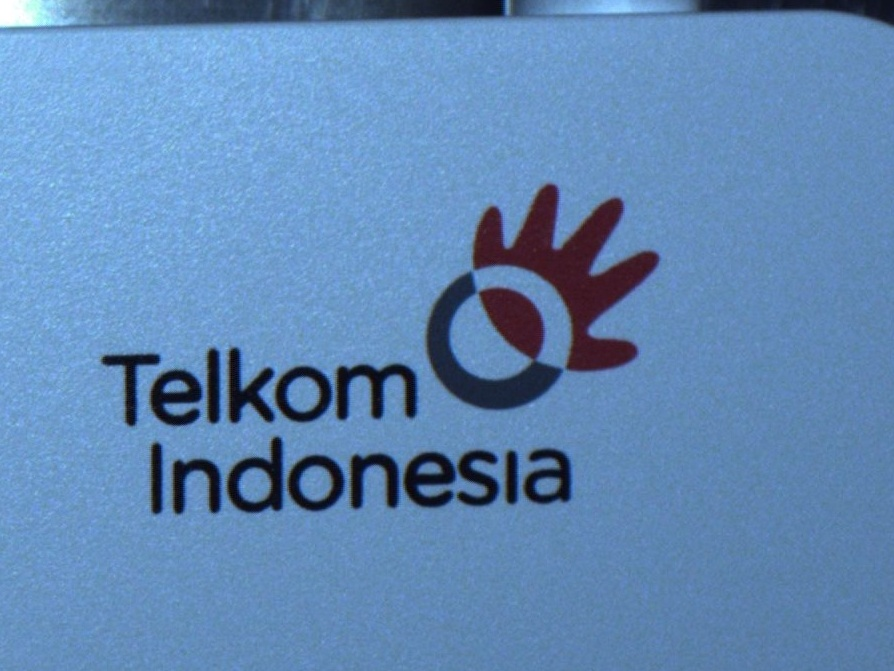BQ_IndonTelkom: (89, 181, 659, 521)
